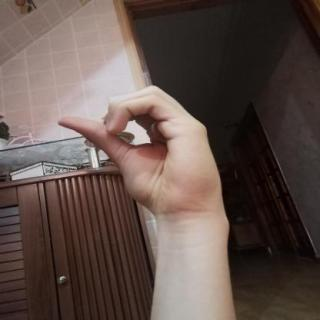WAW: (47, 77, 238, 228)
